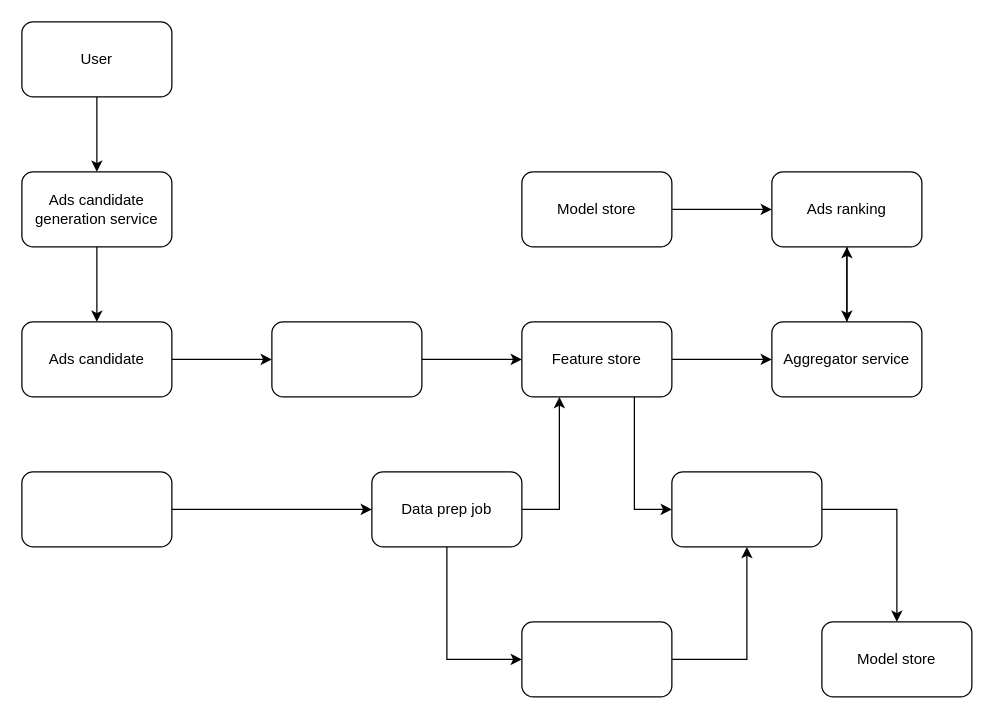
Some shapes in this 994 by 719 pixel diagram are drawn without their labels. Here are the shapes that lost their labels. From the top down, the box of each, then its label:
(271, 321, 422, 397): Stream data prep pipeline
(21, 471, 172, 547): Data lake
(671, 471, 822, 547): Batch training job
(521, 621, 672, 697): Training data store
